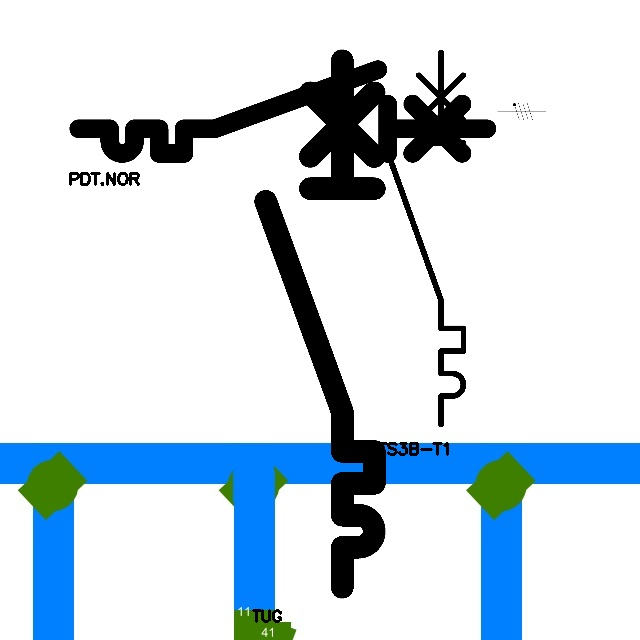interruptor_termomagnetico: (252, 47, 388, 601), (68, 59, 497, 164), (378, 43, 473, 434)
